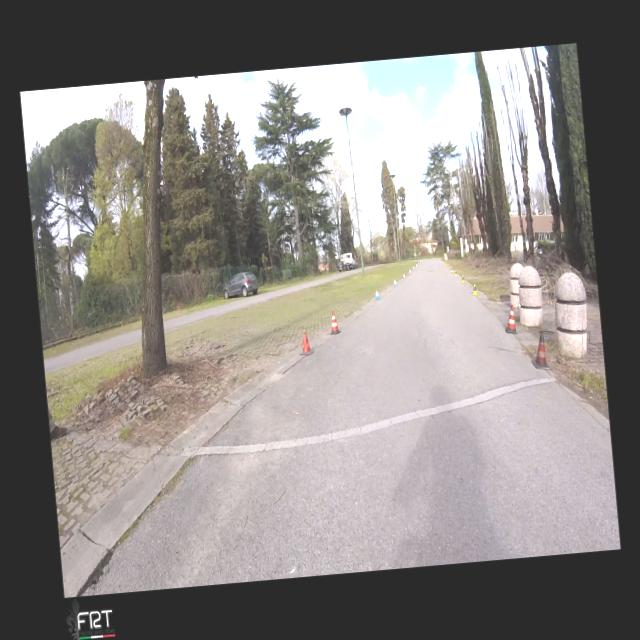blue_cone: (374, 289, 380, 300), (402, 273, 406, 279), (394, 279, 396, 285), (408, 269, 411, 273)
large_orange_cone: (528, 332, 550, 369), (297, 328, 314, 356), (502, 304, 517, 334), (328, 310, 341, 334)
yellow_cone: (470, 283, 478, 295), (460, 274, 464, 284), (454, 270, 456, 276), (450, 266, 452, 272), (446, 263, 448, 267)
